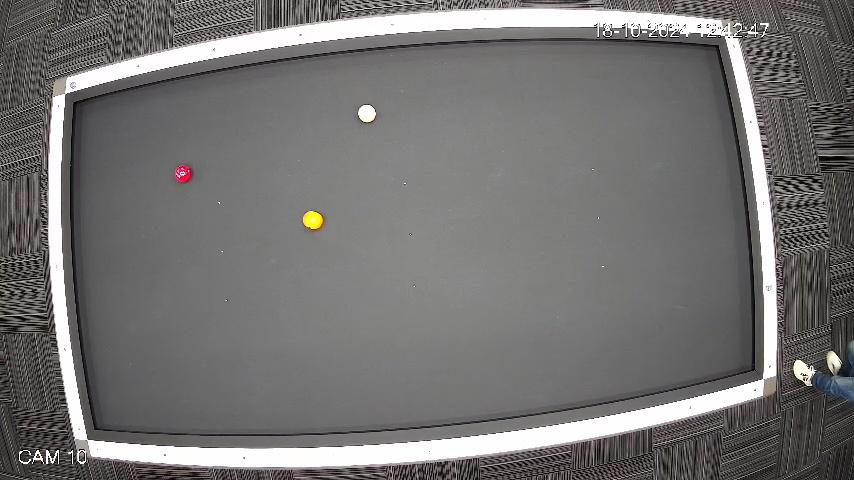Red: (174, 164, 193, 184)
White: (356, 103, 376, 124)
Yellow: (302, 210, 324, 231)
